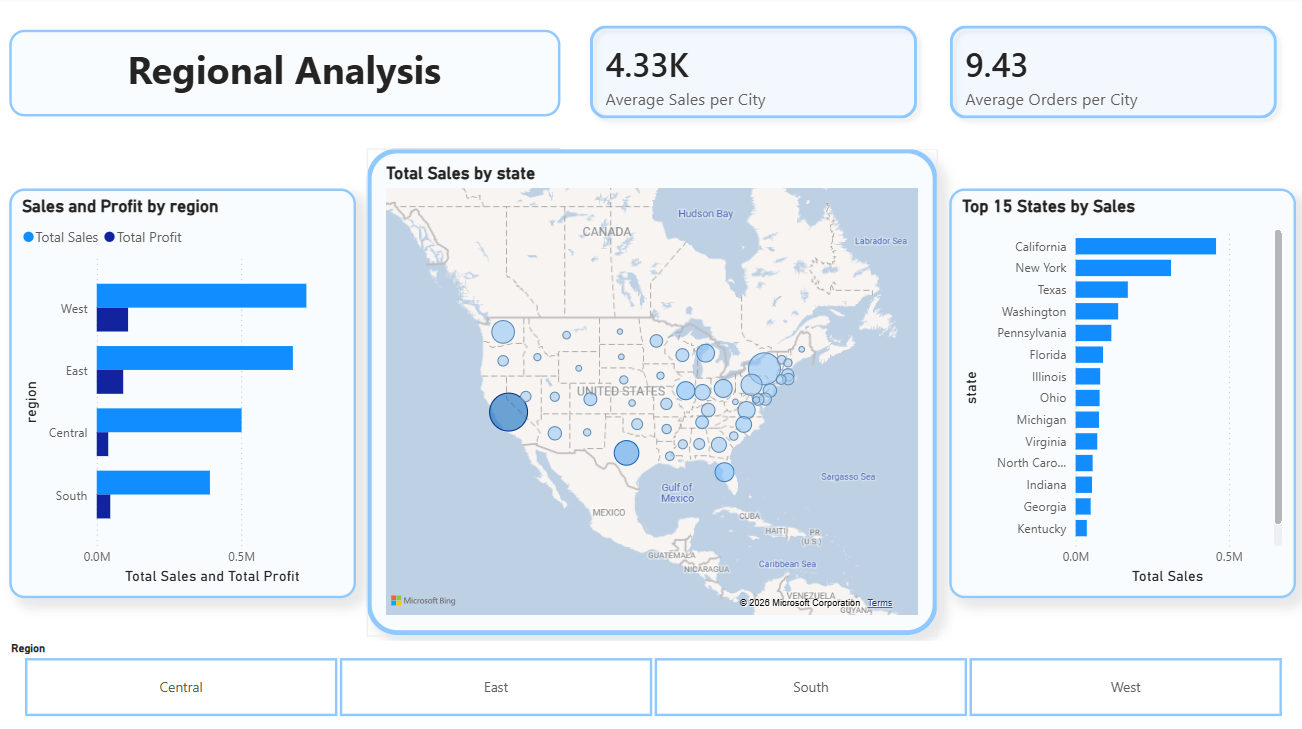

The page's visual inventory and layout, read from the dashboard file:
{"tool":"powerbi","page":{"name":"Regional analysis","canvas":[1280,720],"ordinal":3},"visuals":[{"type":"map","fields":{"Category":["dimensiune_locatie.state"],"Size":["fact_table.Total Sales"]},"box":[360.9,149.6,558.5,476.2],"z":0},{"type":"clusteredBarChart","title":" Sales and Profit by region","fields":{"Y":["fact_table.Total Sales","fact_table.Total Profit"],"Category":["dimensiune_locatie.region"]},"box":[11,188,338.9,400.7],"z":1000},{"type":"slicer","fields":{"Values":["dimensiune_locatie.region"]},"box":[0,625.7,1280.3,85.1],"z":2000},{"type":"barChart","title":"Top 15 States by Sales","fields":{"Category":["dimensiune_locatie.state"],"Y":["fact_table.Total Sales"]},"box":[930.4,188,338.9,400.7],"z":3000},{"type":"cardVisual","fields":{"Data":["fact_table.Average Sales per City","fact_table.Average Orders per City"]},"box":[550.3,0,730,149.6],"z":4000},{"type":"textbox","box":[11,32.9,539.3,85.1],"z":5000}]}

Visuals, with their boxes in screenshot pixels (x1, y1, x2, y2), scaled from the page's 1280x720 canvas onto the 1302x729 screenshot:
map - dimensiune_locatie.state x fact_table.Total Sales: x1=367, y1=151, x2=935, y2=634
" Sales and Profit by region" clusteredBarChart: x1=11, y1=190, x2=356, y2=596
slicer - dimensiune_locatie.region: x1=0, y1=634, x2=1301, y2=720
"Top 15 States by Sales" barChart: x1=946, y1=190, x2=1291, y2=596
cardVisual - fact_table.Average Sales per City x fact_table.Average Orders per City: x1=560, y1=0, x2=1301, y2=151
textbox: x1=11, y1=33, x2=560, y2=119
